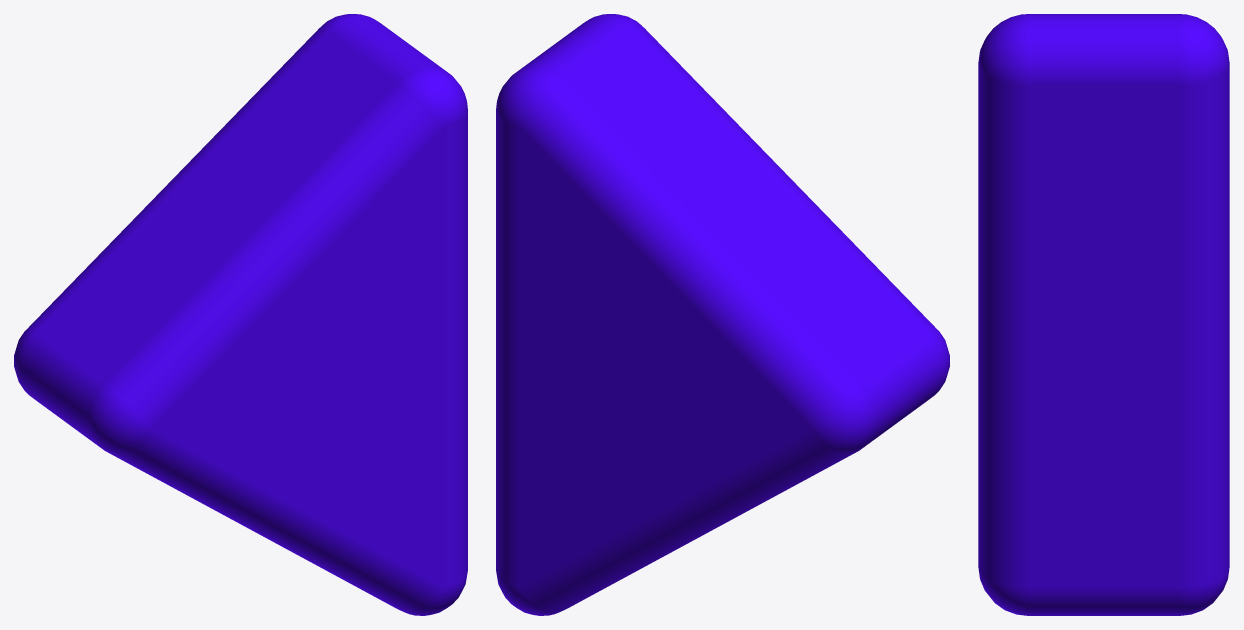
Rendered from arrowPurple.glb.
3 views of the same model, side by side, from view 1: azimuth 30°, elevation 25°; view 2: azimuth 150°, elevation 25°; view 3: azimuth 270°, elevation 25° (orthographic). The views are drawn at different scales.
Parts seen in each view (by area): view 1: arrow v1; view 2: arrow v1; view 3: arrow v1.
Part boxes in pixels (box(x1,y1,x2,y2)): arrow v1: box(14, 14, 467, 615); arrow v1: box(496, 14, 949, 615); arrow v1: box(978, 14, 1229, 615).
Size of the model in its own units: 1.87 by 2.6 by 1.
